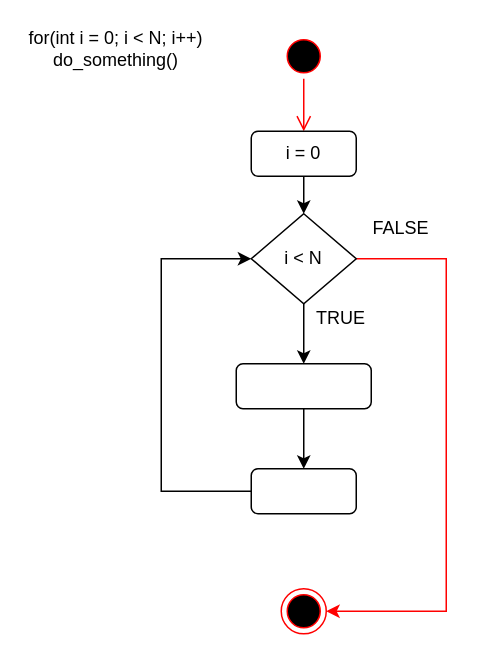
This 485x660 diagram has some shape labels left out. Each missing label, with the box of its shape:
do_something(): (235, 362, 371, 409)
i++: (250, 467, 356, 514)
